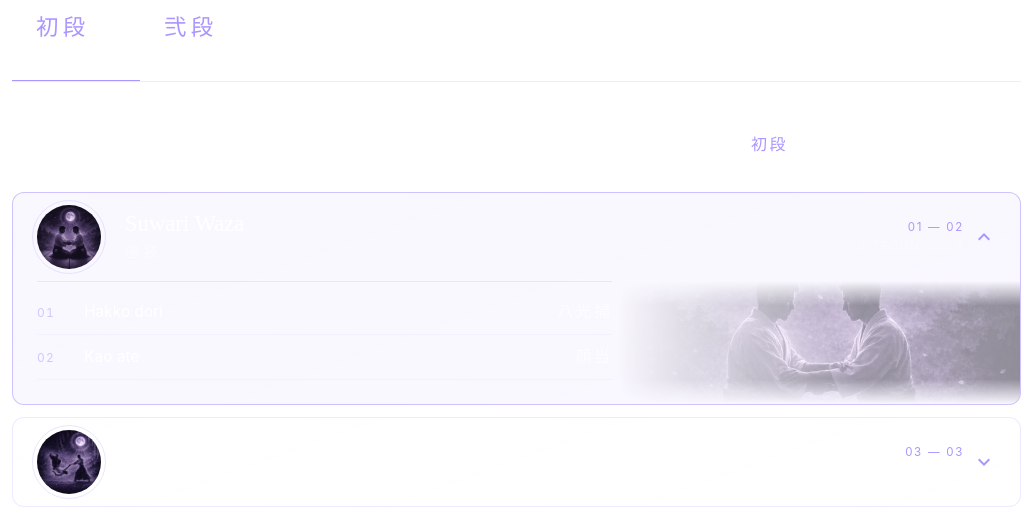
Test: Syllabus › loaded › toggles a category open and closed
Click the button "Suwari Waza 座技 01 — 02 2 techniques" at point(69, 237), box [13,193,1020,281]
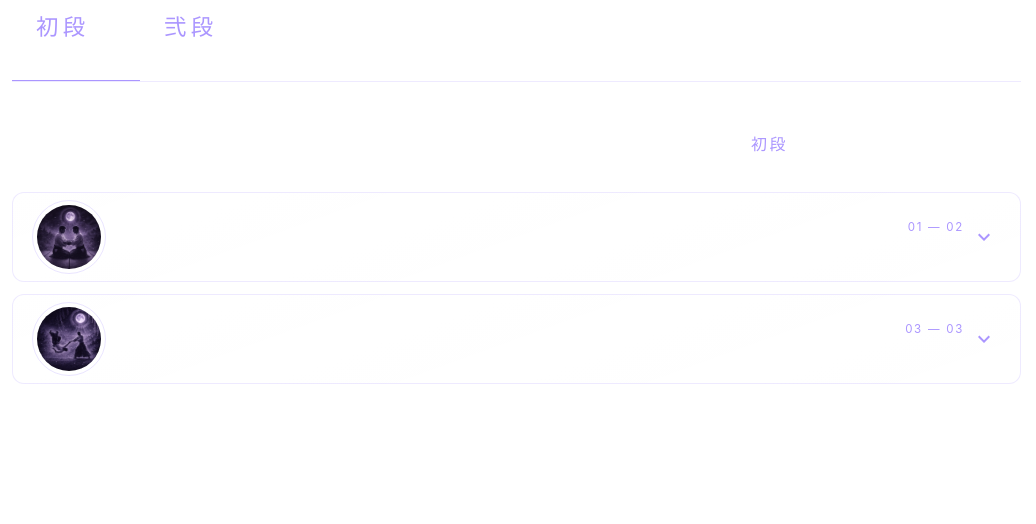
Now the button "Suwari Waza 座技 01 — 02 2 techniques" is collapsed
Click the button "Suwari Waza 座技 01 — 02 2 techniques" at point(69, 237), box [13,193,1020,281]
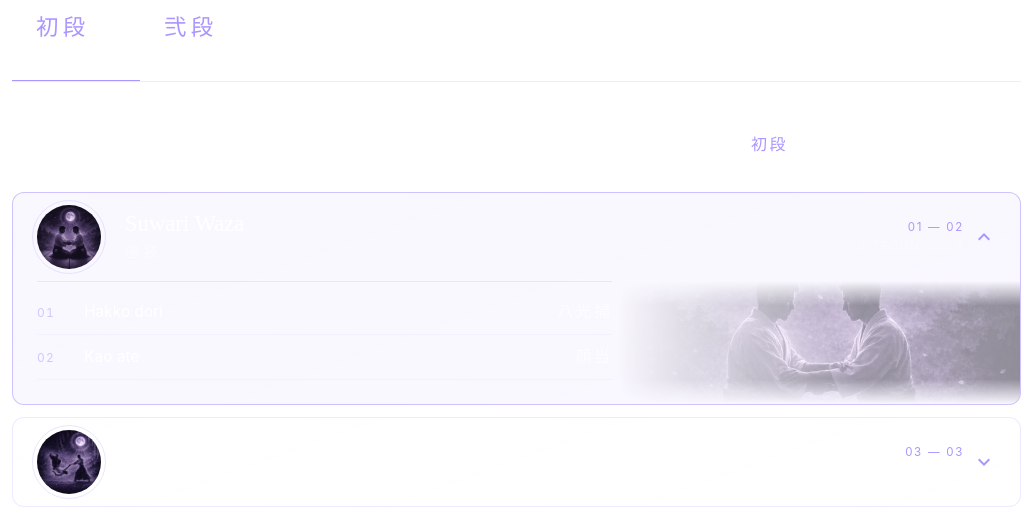
Now the button "Suwari Waza 座技 01 — 02 2 techniques" is expanded, box [13,193,1020,281]
